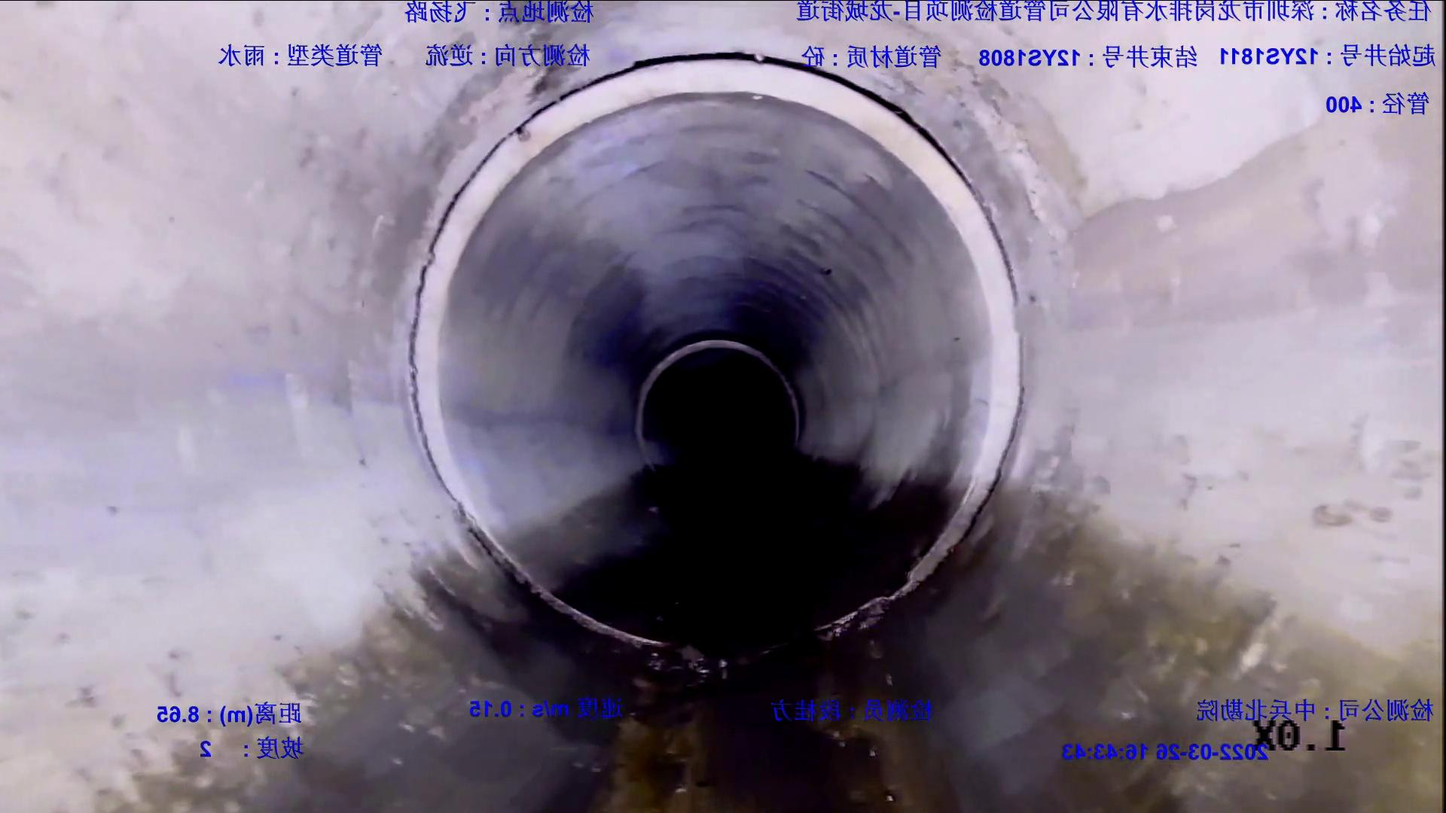CKTJ: (409, 55, 1022, 650), (634, 339, 802, 468)
